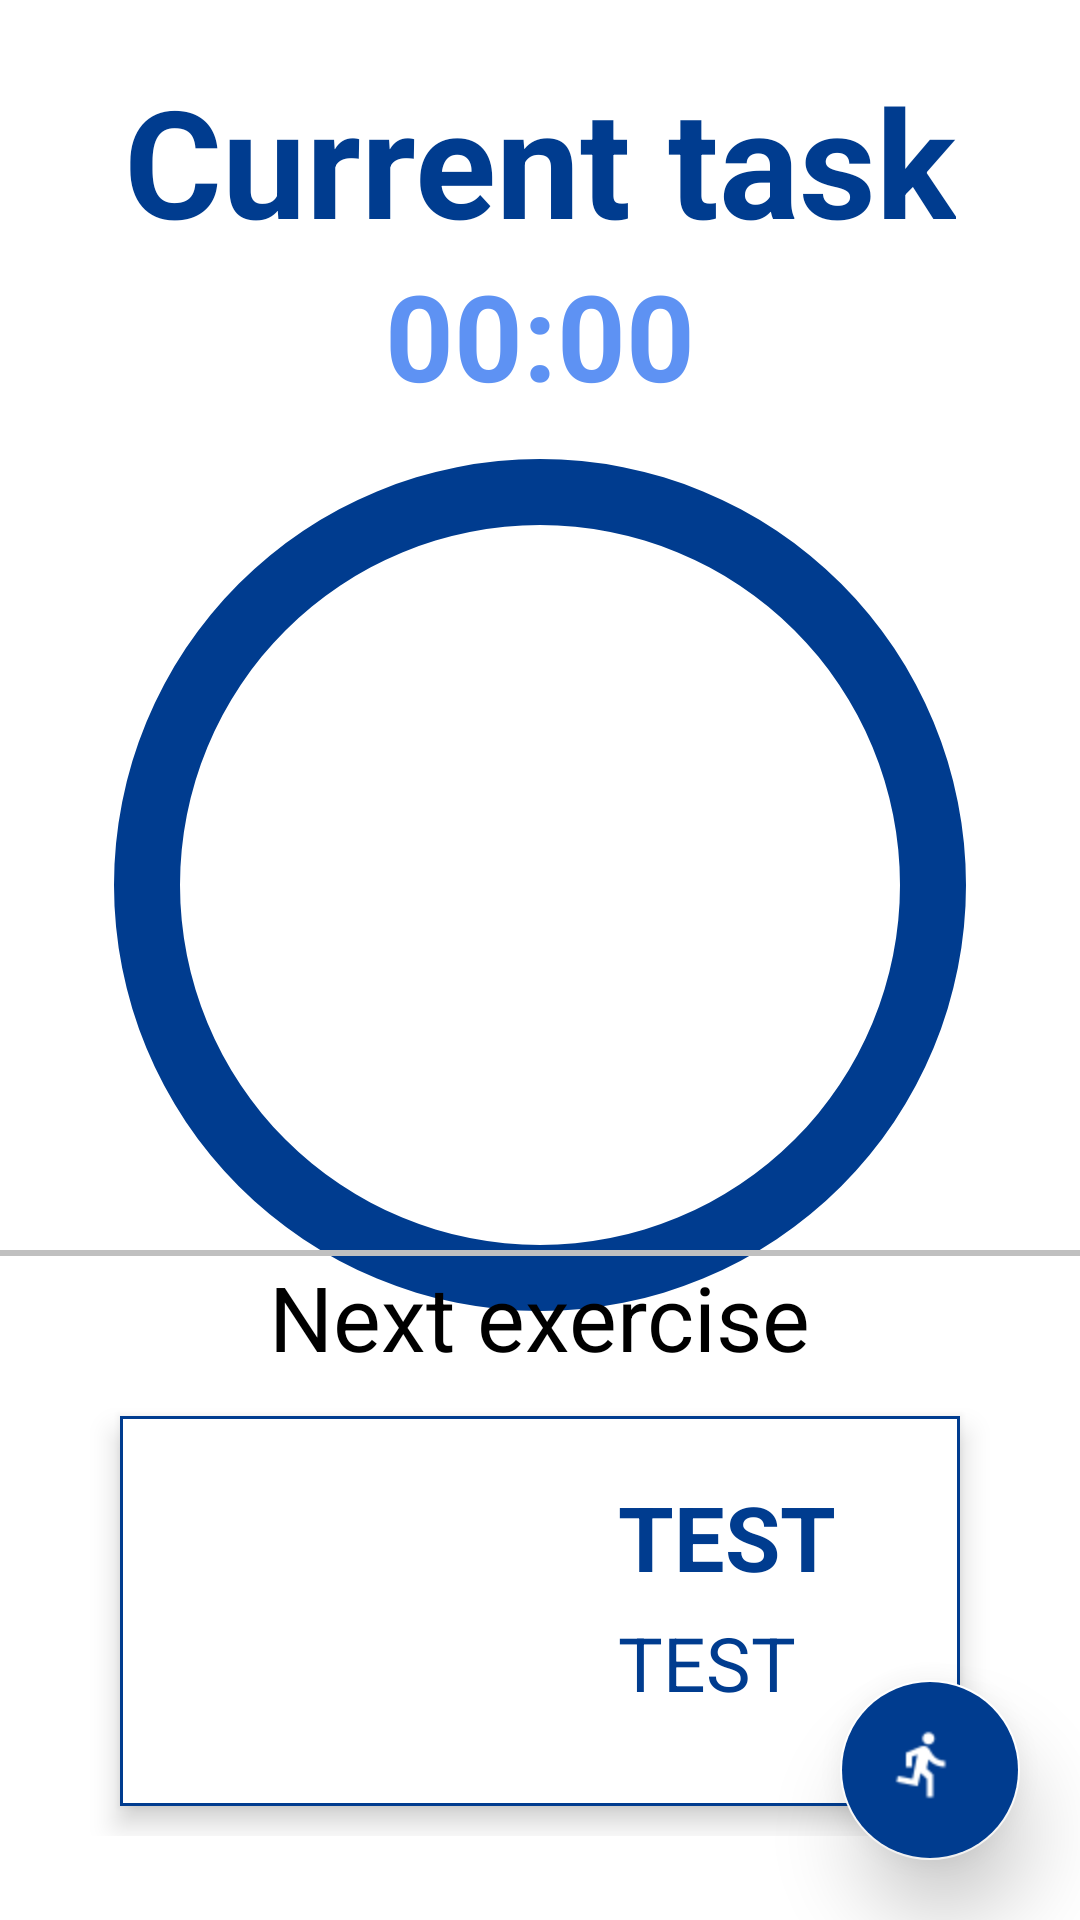

Named icons in this screenshot (1080 x 1920) and their bounding boxes, [x1, y1, x2, y2]:
run: [842, 1682, 1018, 1858]
